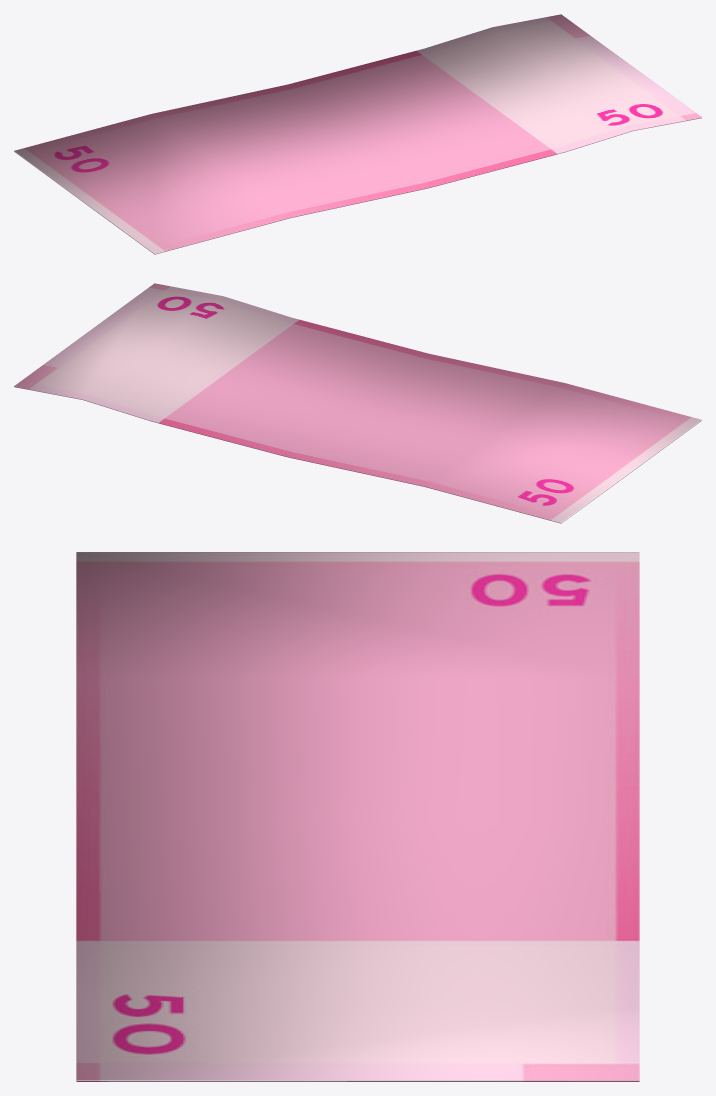
File: Money_50.fbx
3 views of the same model, one above another, from view 1: azimuth 30°, elevation 25°; view 2: azimuth 150°, elevation 25°; view 3: azimuth 270°, elevation 25° (orthographic). The views are drawn at different scales.
Parts seen in each view (by area): view 1: Money; view 2: Money; view 3: Money.
Boxes of the visible parts, x1=… form: Money: x1=14, y1=14, x2=701, y2=254; Money: x1=14, y1=283, x2=701, y2=523; Money: x1=76, y1=552, x2=639, y2=1081.
Bounding box in the file's own units: 15.08 × 0.214 × 6.72.
